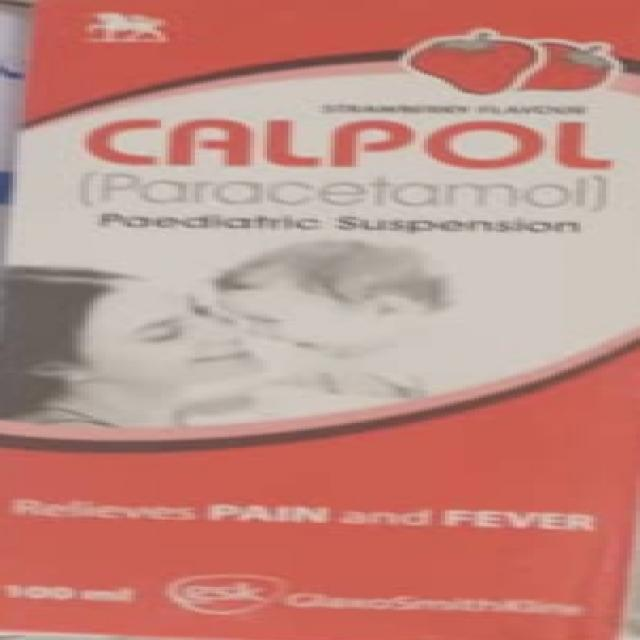drug-name: (78, 116, 612, 172)
